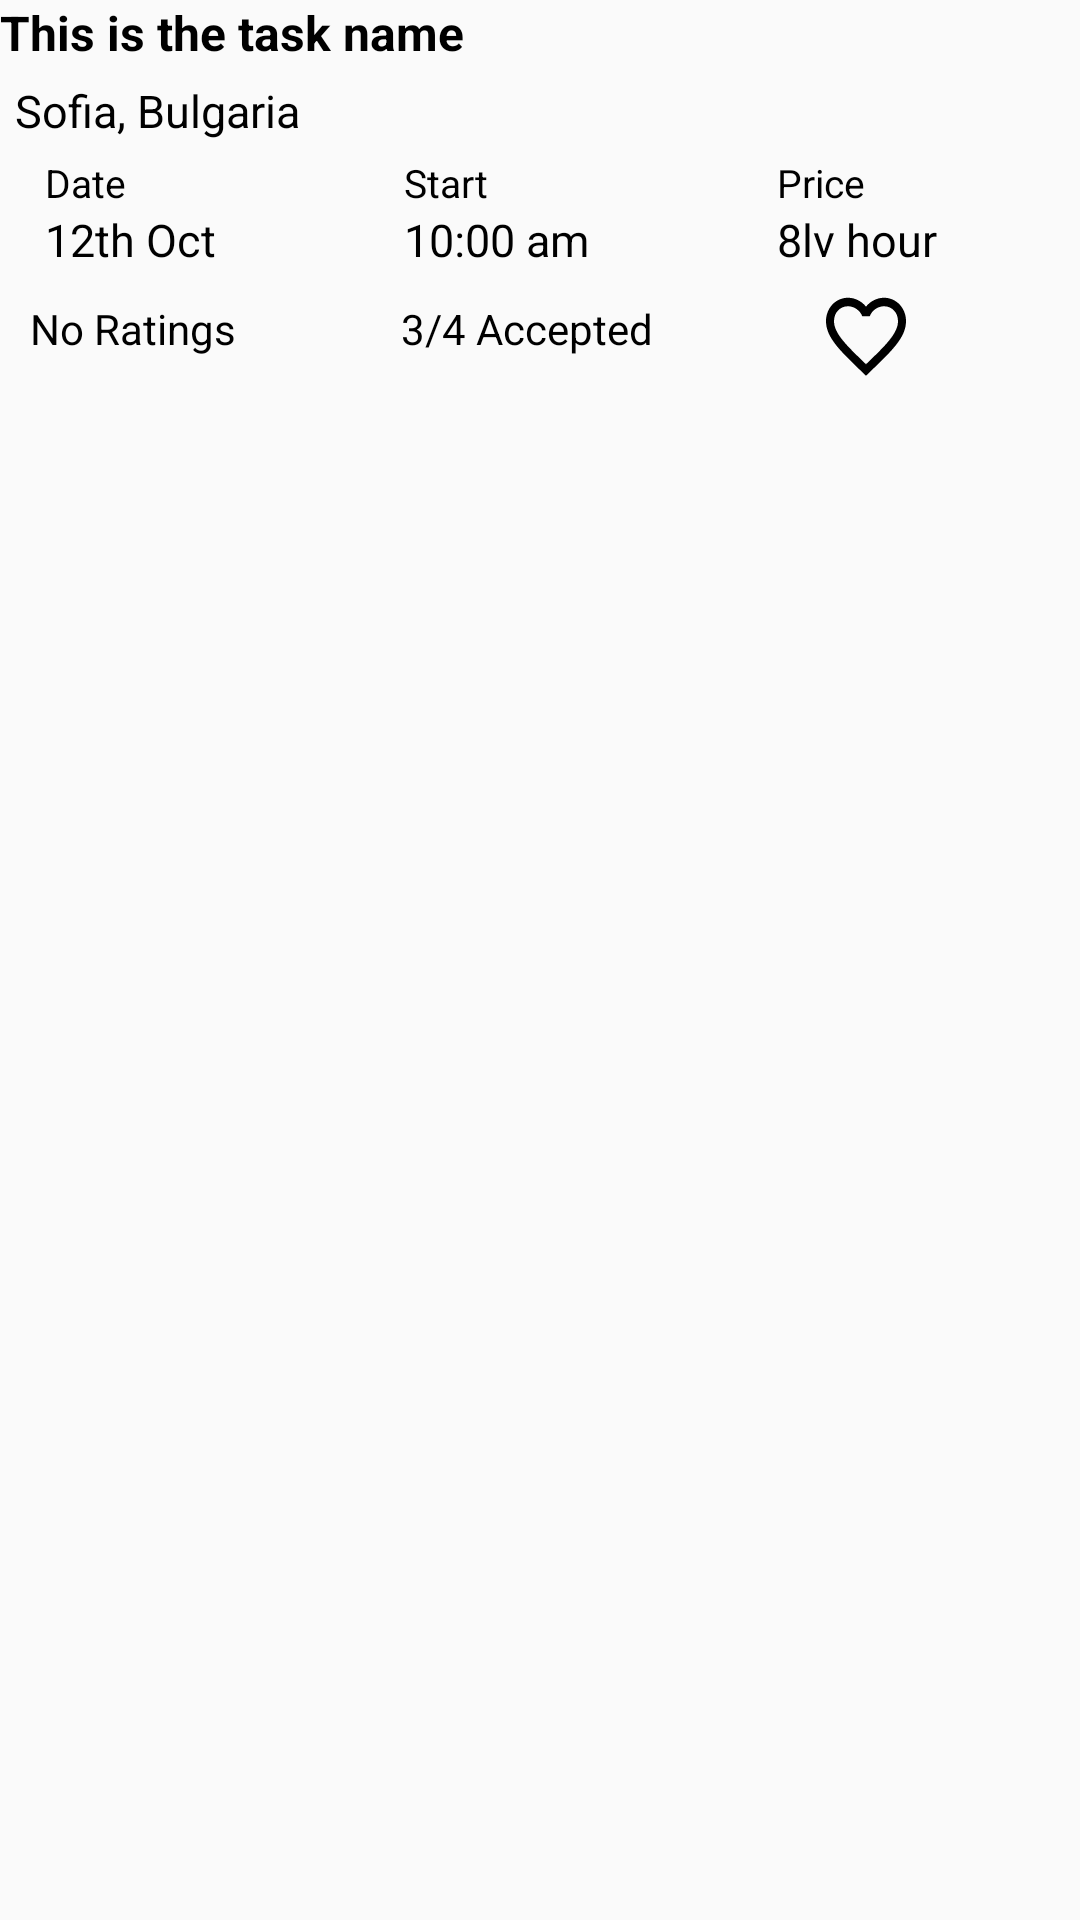

Icon bounding boxes for this 1080w x 1920h phone screenshot, format [x1, y1, x2, y2]:
favorite border: [826, 297, 906, 376]
